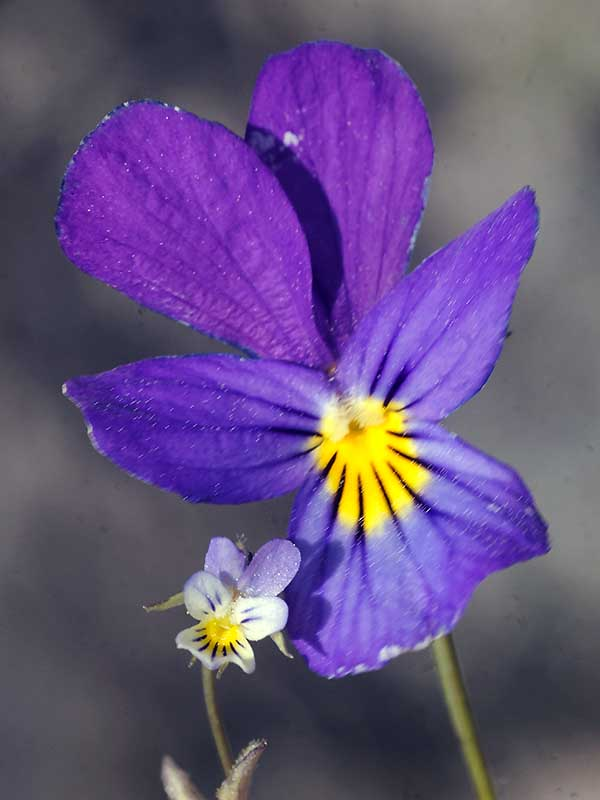violet: (32, 38, 571, 670)
